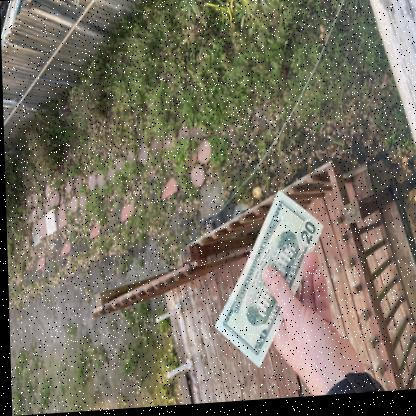twenty-back: (212, 184, 325, 366)
